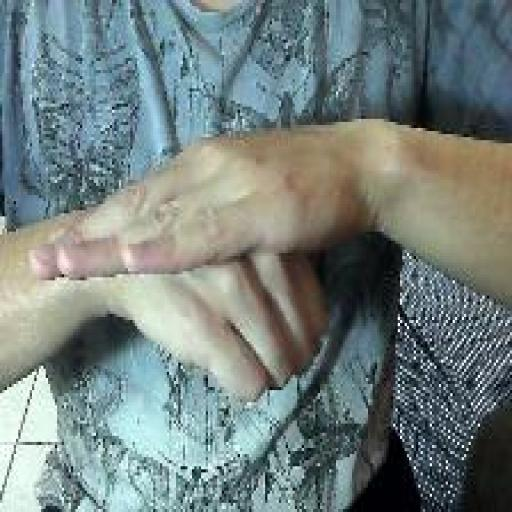Inu -dog-: (26, 139, 335, 410)
